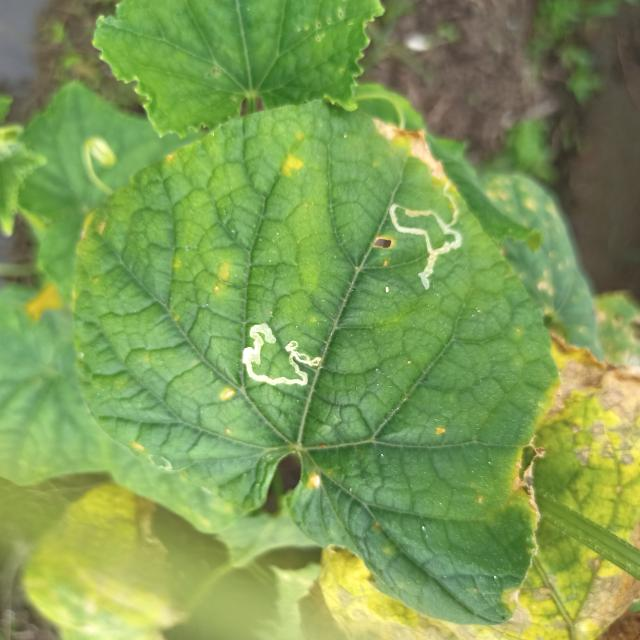disease_cucumber: (74, 207, 115, 246), (280, 134, 308, 178), (212, 259, 232, 294), (220, 384, 236, 406), (307, 469, 321, 489), (434, 423, 448, 437), (134, 440, 148, 454)
